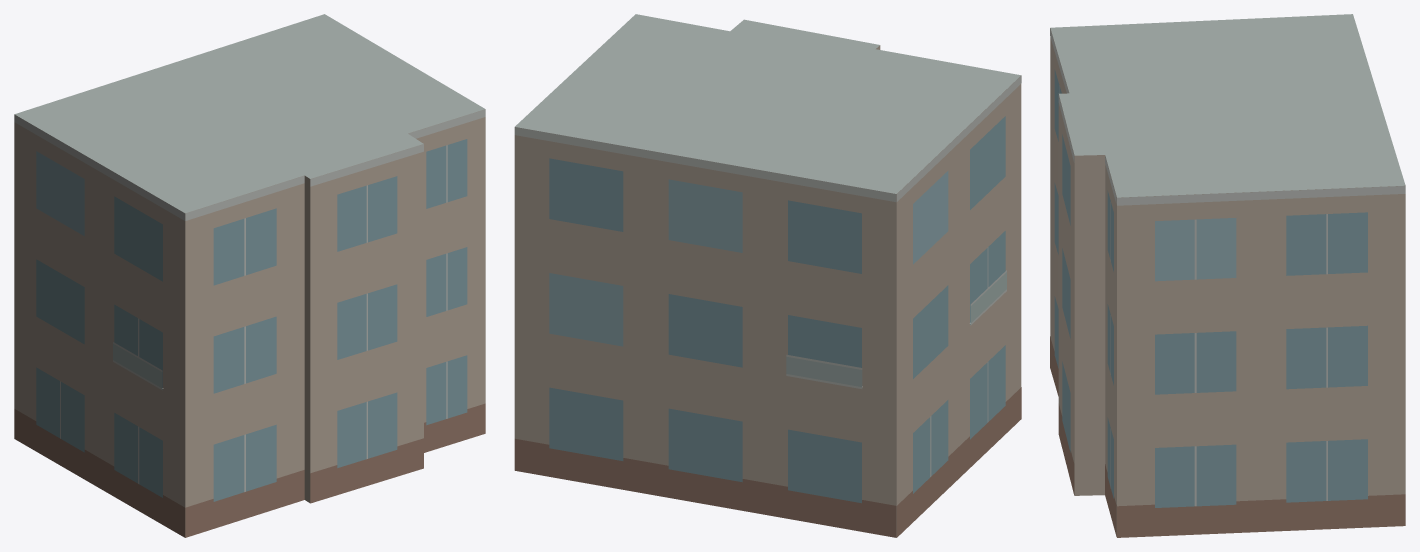
Rendered from survey-upis-32509047.glb.
3 views of the same model, side by side, from view 1: azimuth 30°, elevation 25°; view 2: azimuth 150°, elevation 25°; view 3: azimuth 270°, elevation 25° (orthographic). The views are drawn at different scales.
Parts seen in each view (by area): view 1: survey-upis-32509047.tmp; view 2: survey-upis-32509047.tmp; view 3: survey-upis-32509047.tmp.
Boxes of the visible parts, x1,y1,x2,y2 form: survey-upis-32509047.tmp: (14,14,485,537); survey-upis-32509047.tmp: (514,14,1021,537); survey-upis-32509047.tmp: (1050,14,1405,537).
Bounding box in the file's own units: 11.82 × 10.2 × 9.67.
